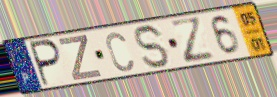6: (209, 13, 242, 56)
C: (104, 30, 136, 74)
P: (29, 38, 65, 89)
S: (134, 23, 171, 71)
Z: (167, 15, 218, 66), (57, 34, 105, 83)
